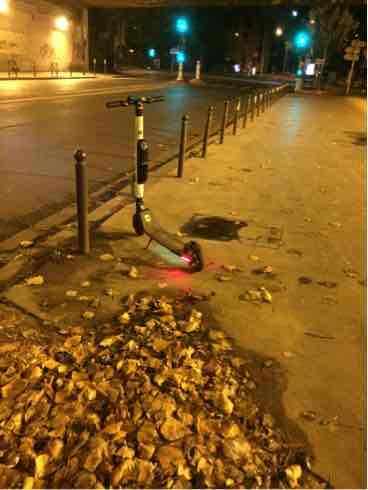scooter: (104, 77, 217, 279)
